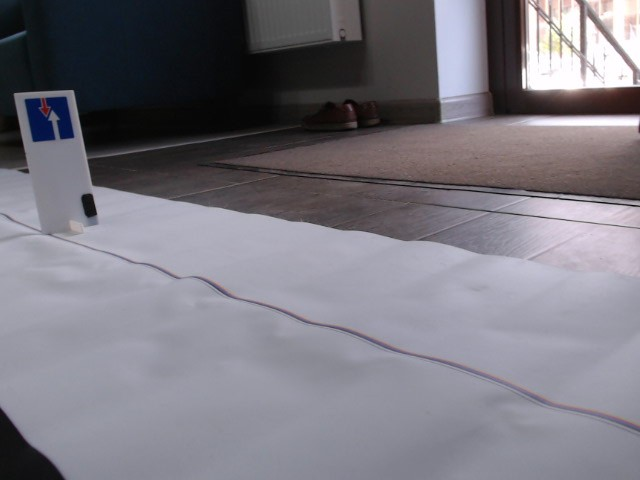priority_movement: (24, 98, 76, 142)
